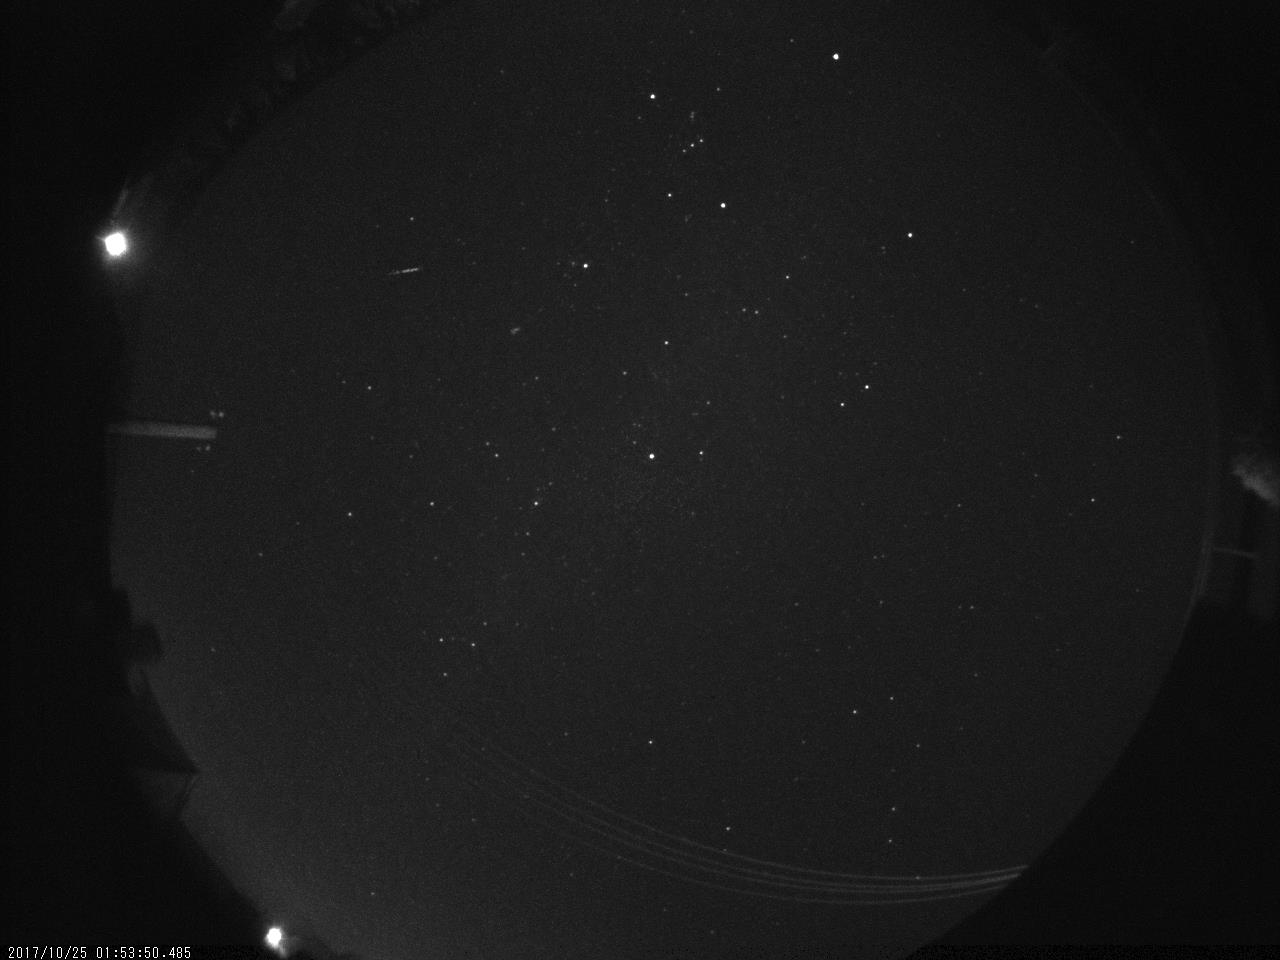meteor: (379, 260, 432, 285)
